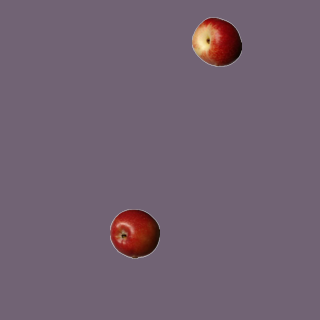Apple Braeburn: (109, 208, 159, 258)
Nectarine: (191, 16, 241, 66)
